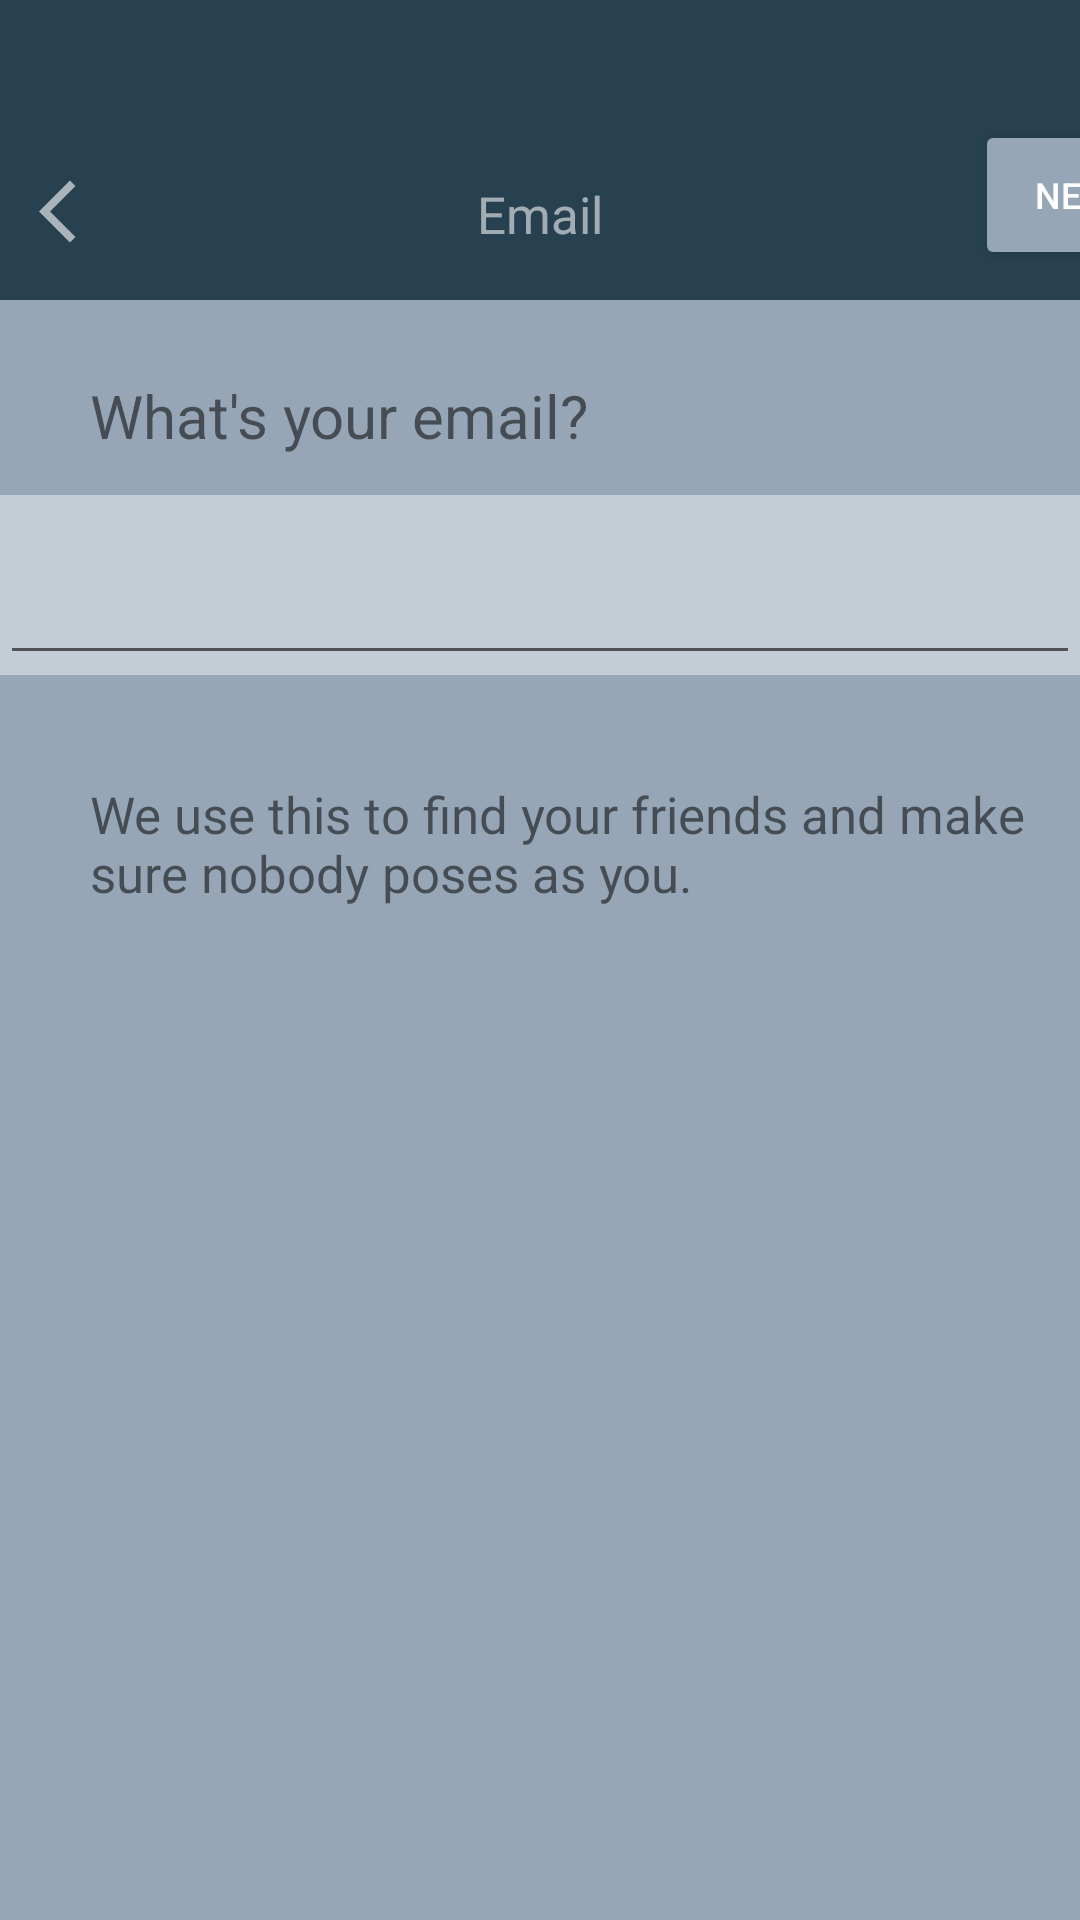

Point at icon controls on the screen. Image size 1080×1920, points as (x=x, y=y).
back: (x=57, y=211)
